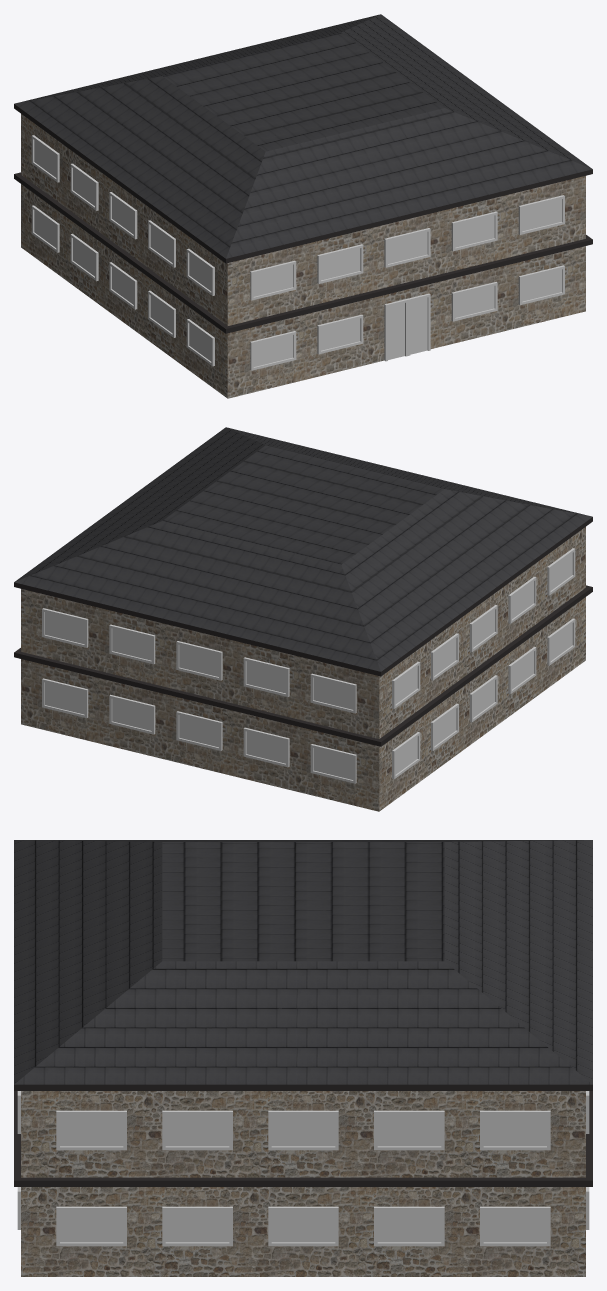
File: poste.fbx
3 views of the same model, one above another, from view 1: azimuth 30°, elevation 25°; view 2: azimuth 150°, elevation 25°; view 3: azimuth 270°, elevation 25° (orthographic). The views are drawn at different scales.
Visible parts, largest first — view 1: Poste_toit_Plane, Poste_Cube, Poste_fenetre_Plane_001, Poste_toit_Plane_001; view 2: Poste_toit_Plane, Poste_Cube, Poste_fenetre_Plane_001; view 3: Poste_toit_Plane, Poste_Cube, Poste_fenetre_Plane_001.
Boxes of the visible parts, x1,y1,x2,y2 form: Poste_toit_Plane: (14, 14, 592, 333); Poste_Cube: (21, 114, 585, 398); Poste_fenetre_Plane_001: (31, 135, 564, 370); Poste_toit_Plane_001: (384, 293, 430, 361); Poste_toit_Plane: (14, 427, 592, 746); Poste_Cube: (21, 527, 585, 811); Poste_fenetre_Plane_001: (42, 548, 575, 783); Poste_toit_Plane: (14, 840, 592, 1186); Poste_Cube: (21, 1091, 585, 1276); Poste_fenetre_Plane_001: (17, 1091, 589, 1246).
Size of the model in its own units: 82 by 40 by 82.
Materials: 3 (2 with a texture image).
